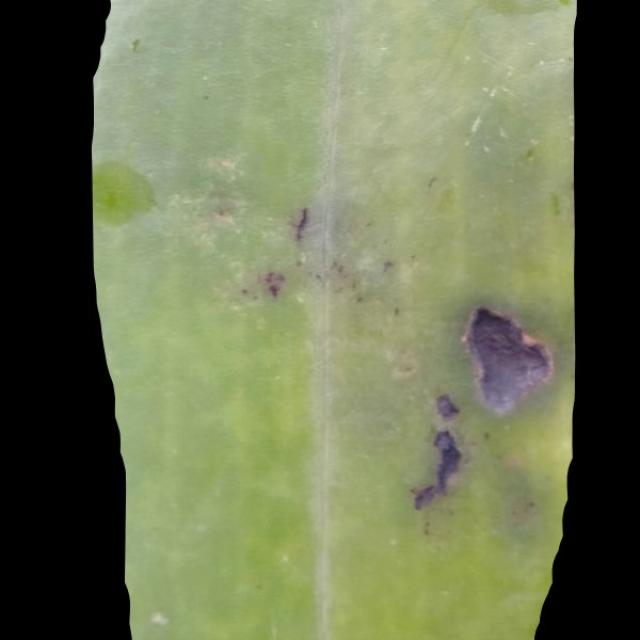mite: (218, 190, 553, 518), (238, 202, 402, 317), (126, 32, 214, 105), (91, 158, 157, 228), (430, 427, 463, 486), (480, 0, 573, 15), (118, 28, 154, 62), (433, 390, 460, 420), (125, 33, 146, 55), (547, 191, 562, 217), (101, 189, 119, 210), (380, 258, 394, 273), (129, 36, 142, 51), (555, 0, 571, 6)
sunburn: (459, 302, 556, 418)
